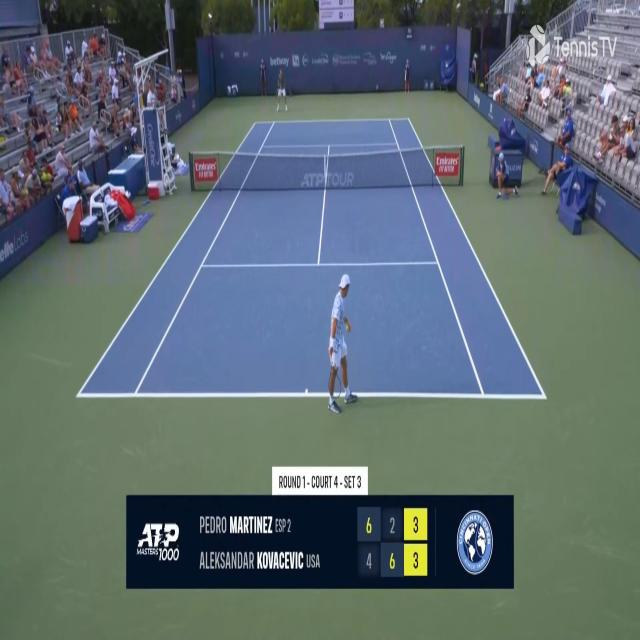tennis-player: (326, 270, 357, 416), (274, 66, 291, 115)
